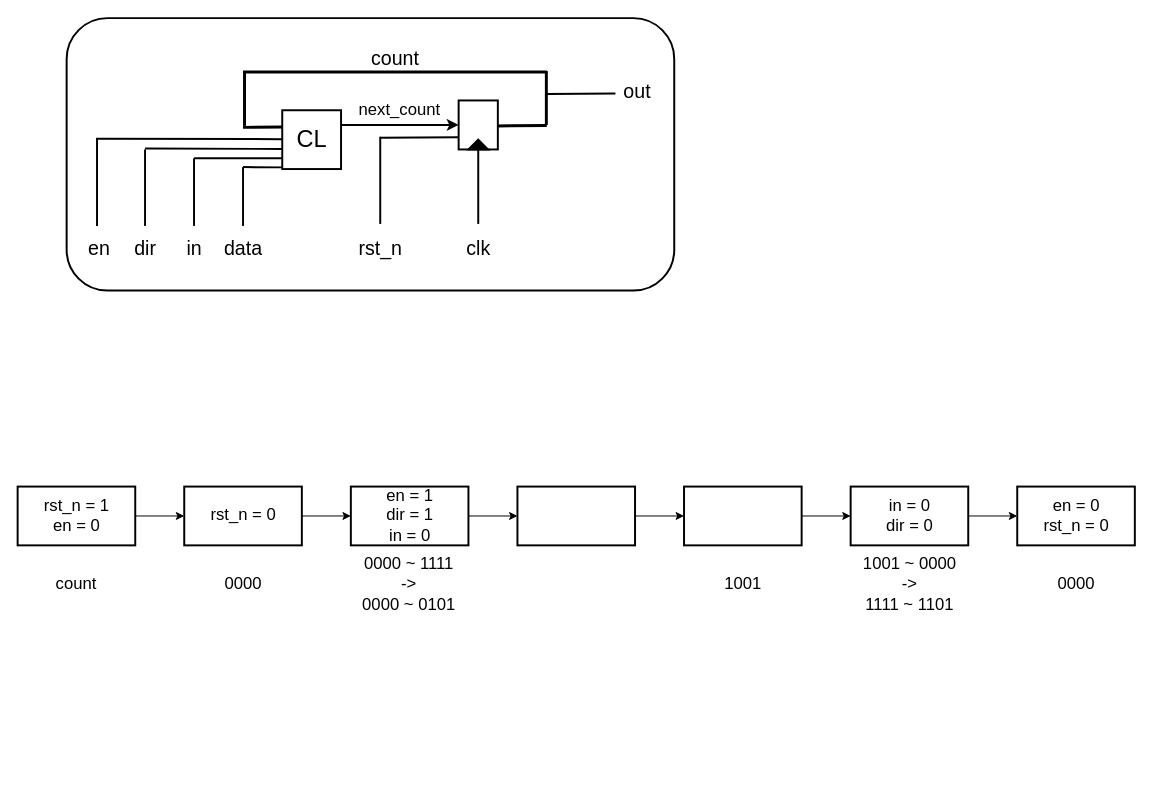
Some shapes in this 1165 by 799 pixel diagram are drawn without their labels. The box of each missing label's shape, as (x1, y1, x2, y2) in pixels:
D Q: (457, 99, 498, 150)
en = 0: (516, 485, 636, 546)
en = 1 in = 1 data = 9: (683, 485, 802, 546)
